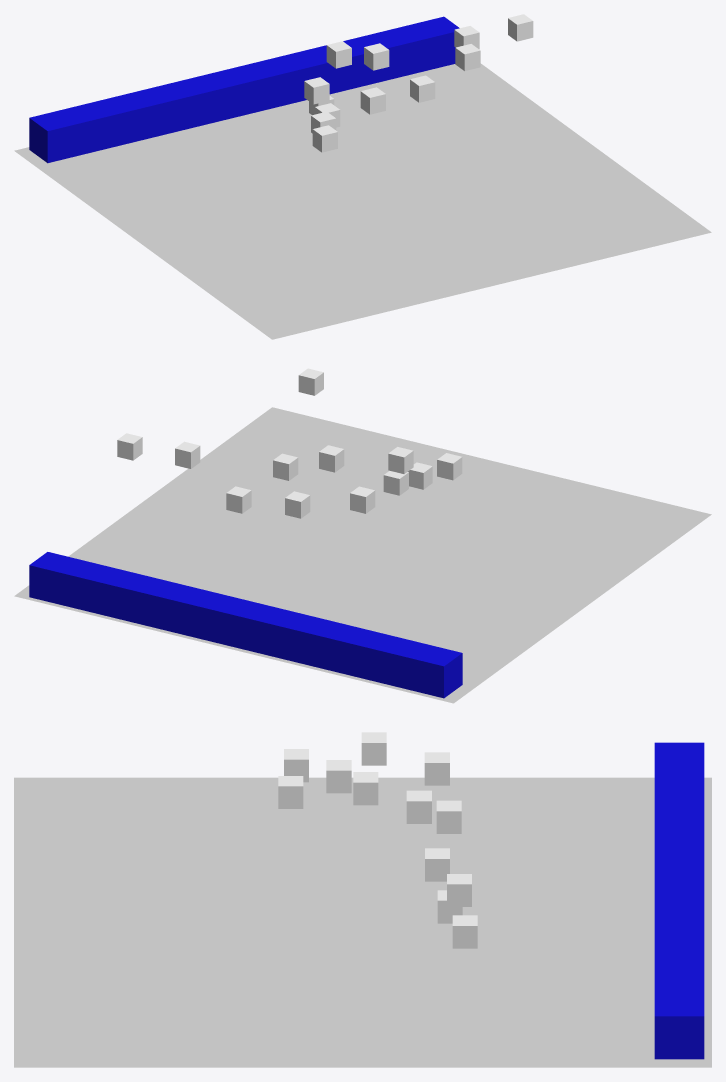
The model's file is testanim04.glb.
The picture shows the model from 3 angles, top to bottom: view 1: azimuth 30°, elevation 25°; view 2: azimuth 150°, elevation 25°; view 3: azimuth 270°, elevation 25°; orthographic projection. The views are drawn at different scales.
Parts seen in each view (by area): view 1: Plane, Cube, Cube.008, Cube.001, Cube.002, Cube.006, Cube.007, Cube.009, Cube.010, Cube.011; view 2: Plane, Cube, Cube.009, Cube.008, Cube.011, Cube.006, Cube.001, Cube.002, Cube.005, Cube.007, Cube.010, Cube.012 (+2 smaller); view 3: Plane, Cube, Cube.002, Cube.004, Cube.007, Cube.010, Cube.003, Cube.005, Cube.006, Cube.009, Cube.008, Cube.012 (+2 smaller).
Boxes of the visible parts, bbox=[...] form: Plane: bbox=[14, 63, 711, 339]; Cube: bbox=[29, 16, 459, 163]; Cube.008: bbox=[360, 87, 385, 114]; Cube.001: bbox=[312, 125, 337, 152]; Cube.002: bbox=[304, 77, 329, 104]; Cube.006: bbox=[364, 43, 389, 70]; Cube.007: bbox=[326, 41, 351, 68]; Cube.009: bbox=[455, 44, 480, 71]; Cube.010: bbox=[508, 14, 533, 41]; Cube.011: bbox=[410, 75, 435, 102]; Plane: bbox=[14, 407, 711, 703]; Cube: bbox=[29, 552, 462, 698]; Cube.009: bbox=[298, 368, 323, 395]; Cube.008: bbox=[285, 491, 310, 518]; Cube.011: bbox=[226, 486, 251, 513]; Cube.006: bbox=[273, 453, 298, 480]; Cube.001: bbox=[437, 453, 462, 480]; Cube.002: bbox=[388, 447, 413, 473]; Cube.005: bbox=[350, 486, 375, 513]; Cube.007: bbox=[319, 445, 344, 472]; Cube.010: bbox=[117, 433, 142, 460]; Cube.012: bbox=[175, 441, 200, 468]; Plane: bbox=[14, 777, 711, 1067]; Cube: bbox=[654, 742, 704, 1059]; Cube.002: bbox=[361, 732, 386, 765]; Cube.004: bbox=[326, 760, 351, 793]; Cube.007: bbox=[424, 752, 449, 785]; Cube.010: bbox=[452, 915, 477, 948]; Cube.003: bbox=[353, 772, 378, 805]; Cube.005: bbox=[406, 790, 431, 823]; Cube.006: bbox=[436, 800, 461, 833]; Cube.009: bbox=[278, 776, 303, 808]; Cube.008: bbox=[425, 848, 449, 881]; Cube.012: bbox=[447, 874, 471, 906].
Bounding box in the file's own units: 27.56 × 8.64 × 28.03.
